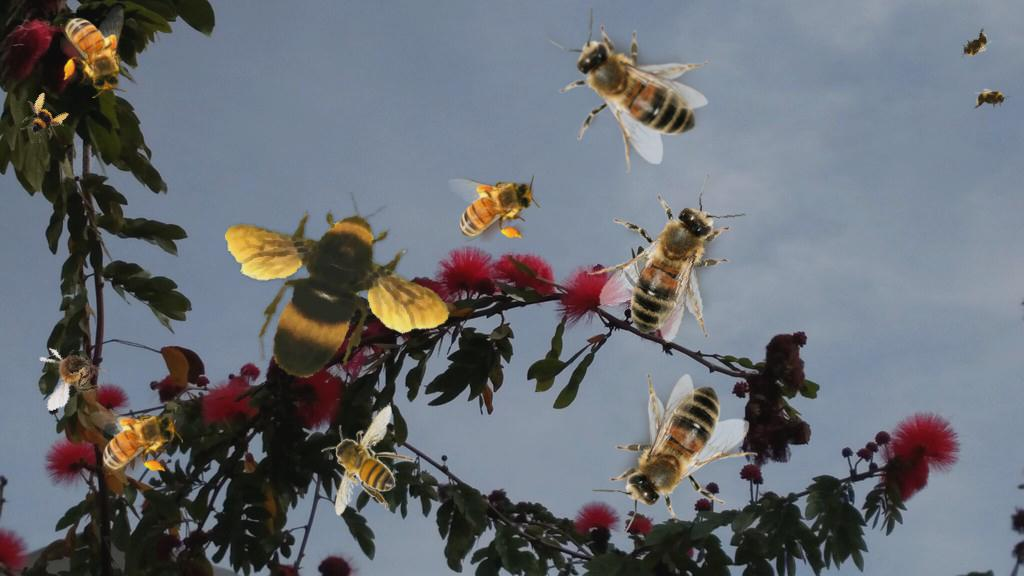Bee: (221, 182, 457, 393), (575, 169, 764, 353), (546, 6, 708, 173), (591, 374, 758, 536), (321, 405, 415, 516), (29, 332, 116, 412), (90, 407, 183, 475), (60, 5, 128, 98), (447, 174, 540, 242), (11, 87, 73, 149), (952, 24, 998, 66), (971, 88, 1011, 110)
